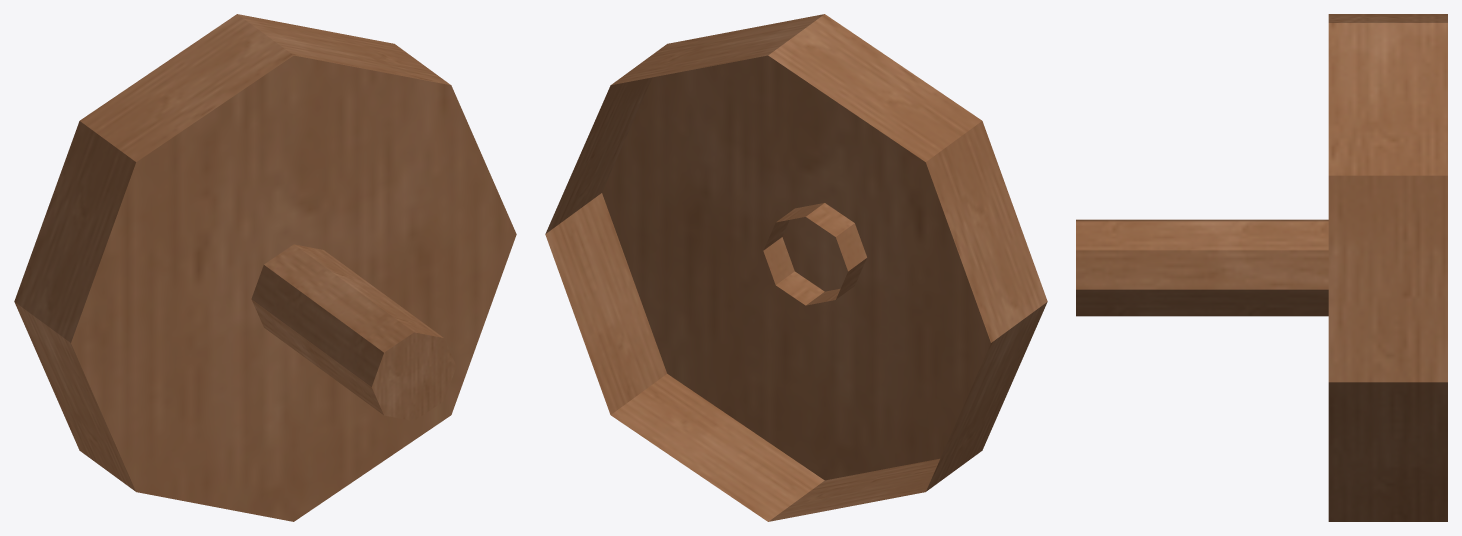
File: towel rack.fbx
The picture shows the model from 3 angles, left to right: view 1: azimuth 30°, elevation 25°; view 2: azimuth 150°, elevation 25°; view 3: azimuth 270°, elevation 25°; orthographic projection. The views are drawn at different scales.
Parts seen in each view (by area): view 1: polySurface4; view 2: polySurface4; view 3: polySurface4.
Boxes of the visible parts, <box> form: polySurface4: <box>14,14,516,521</box>; polySurface4: <box>545,14,1047,521</box>; polySurface4: <box>1076,14,1447,521</box>.
Bounding box in the file's own units: 10.61 × 10.61 × 7.3.
Materials: 1 (1 with a texture image).
